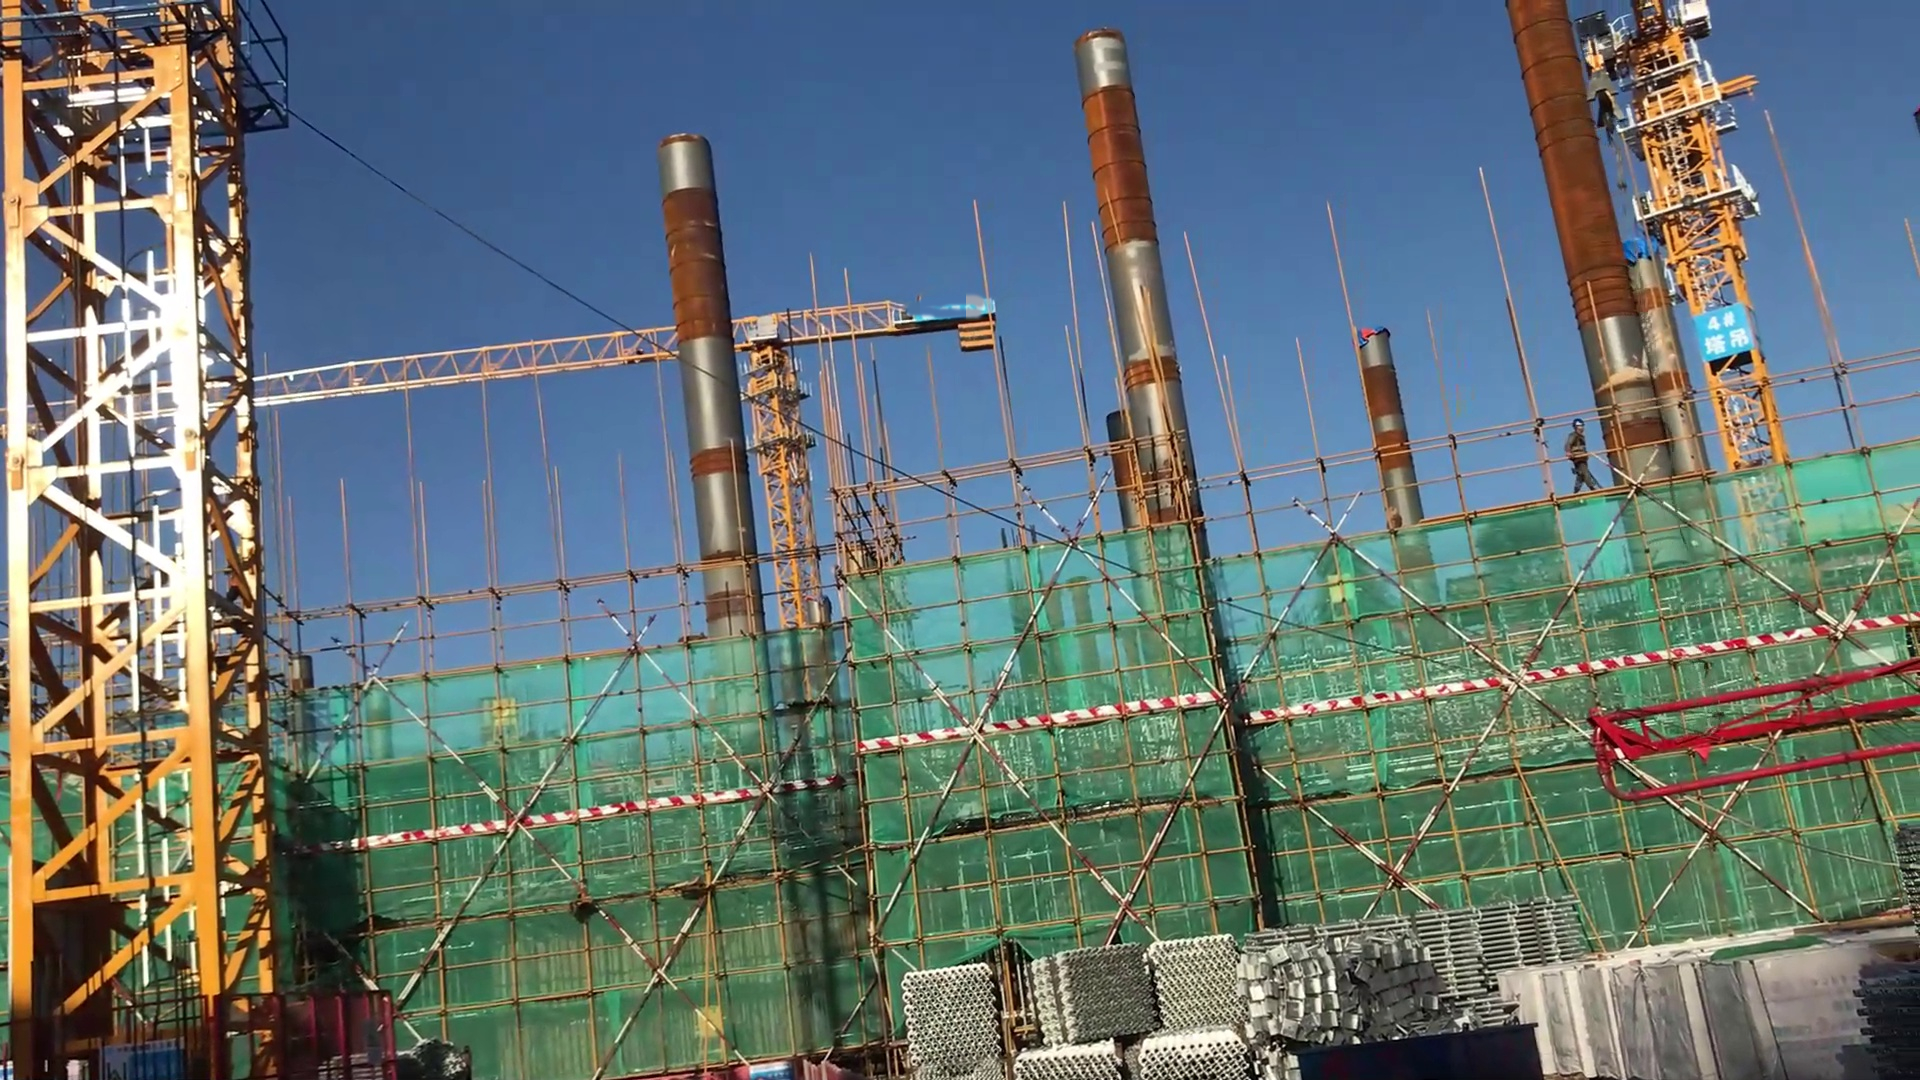helmet: (1568, 415, 1586, 429)
hook: (1566, 46, 1651, 134)
person: (1552, 410, 1608, 501)
scaffold: (1018, 927, 1256, 1080), (889, 974, 1016, 1080), (1382, 905, 1575, 963)
